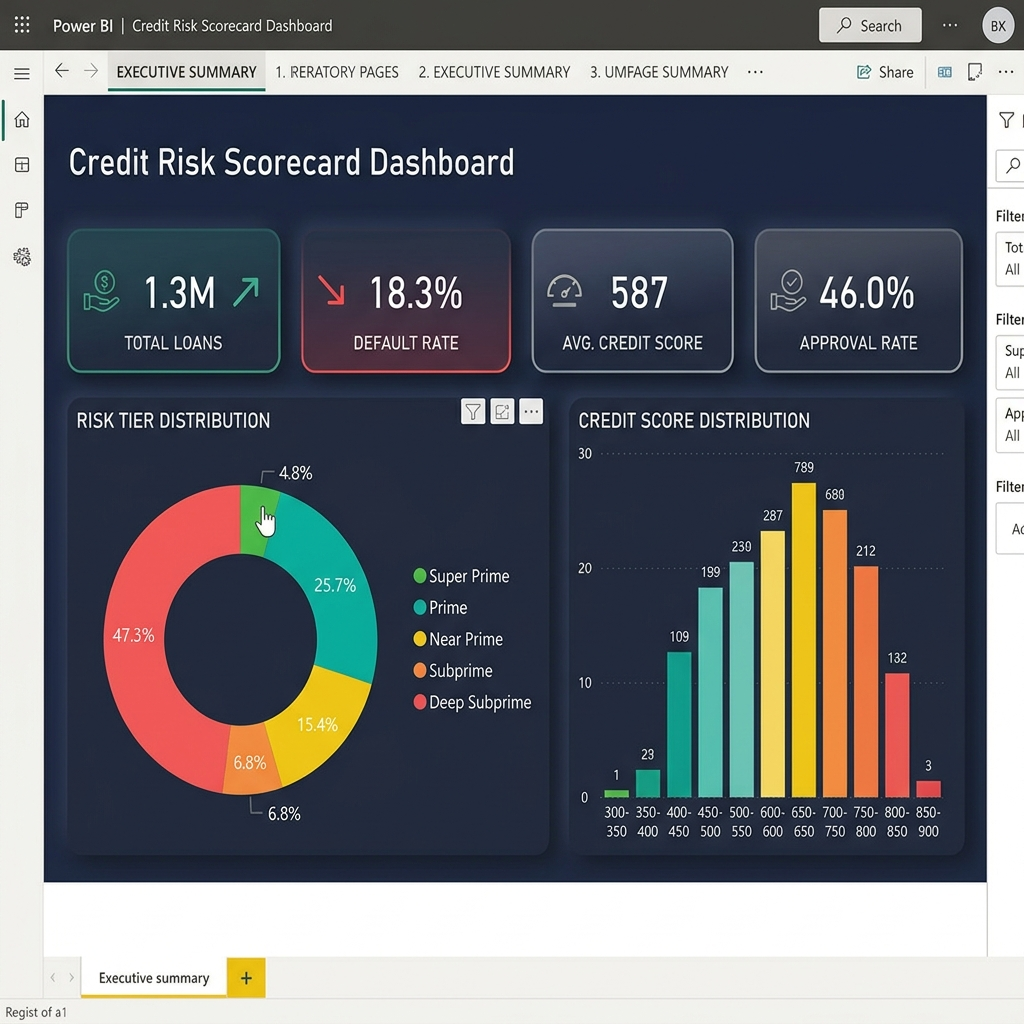

Layout of this report page (visuals, bound fields, positions):
{"tool":"powerbi","page":{"name":"Executive Summary","canvas":[1280,720],"ordinal":0},"visuals":[{"type":"donutChart","fields":{"Category":["risk_tier_summary.Risk Tier"],"Y":["Sum(risk_tier_summary.Count)"]},"box":[135.7,243.3,387.6,393.8],"z":0},{"type":"clusteredColumnChart","fields":{"Category":["score_distribution.Score Range"],"Y":["Sum(score_distribution.Count)"]},"box":[761.8,259.2,462.2,360.7],"z":1000},{"type":"multiRowCard","fields":{"Values":["kpi_summary.Total Loans","kpi_summary.Default Rate (%)","kpi_summary.Approval Rate (%)","kpi_summary.Average Credit Score"]},"box":[313,91.7,764.3,73.4],"z":2000}]}

Visuals, with their boxes on the page's 1280x720 design canvas (x1, y1, x2, y2). These are canvas units, not pixel positions in the 1024x1024 screenshot, which may show the page scaled, cropped or inside an application window:
donutChart - risk_tier_summary.Risk Tier x Sum(risk_tier_summary.Count): [x1=136, y1=243, x2=523, y2=637]
clusteredColumnChart - score_distribution.Score Range x Sum(score_distribution.Count): [x1=762, y1=259, x2=1224, y2=620]
multiRowCard - kpi_summary.Total Loans x kpi_summary.Default Rate (%): [x1=313, y1=92, x2=1077, y2=165]
